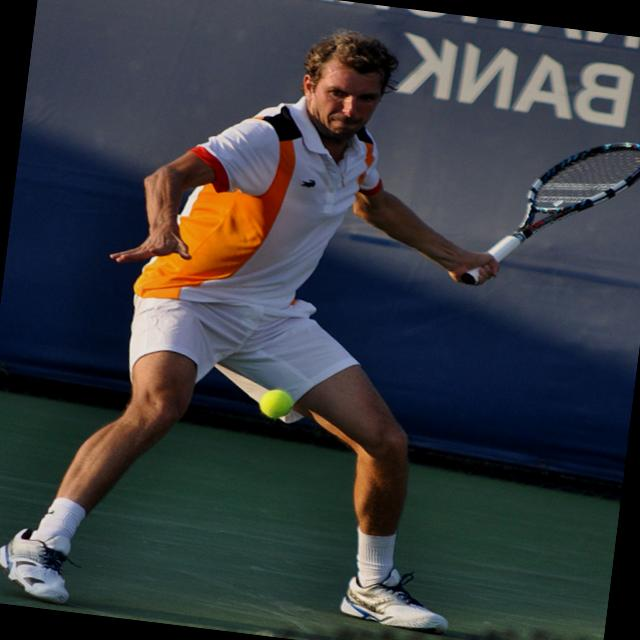Tennis Ball: (260, 386, 294, 421)
